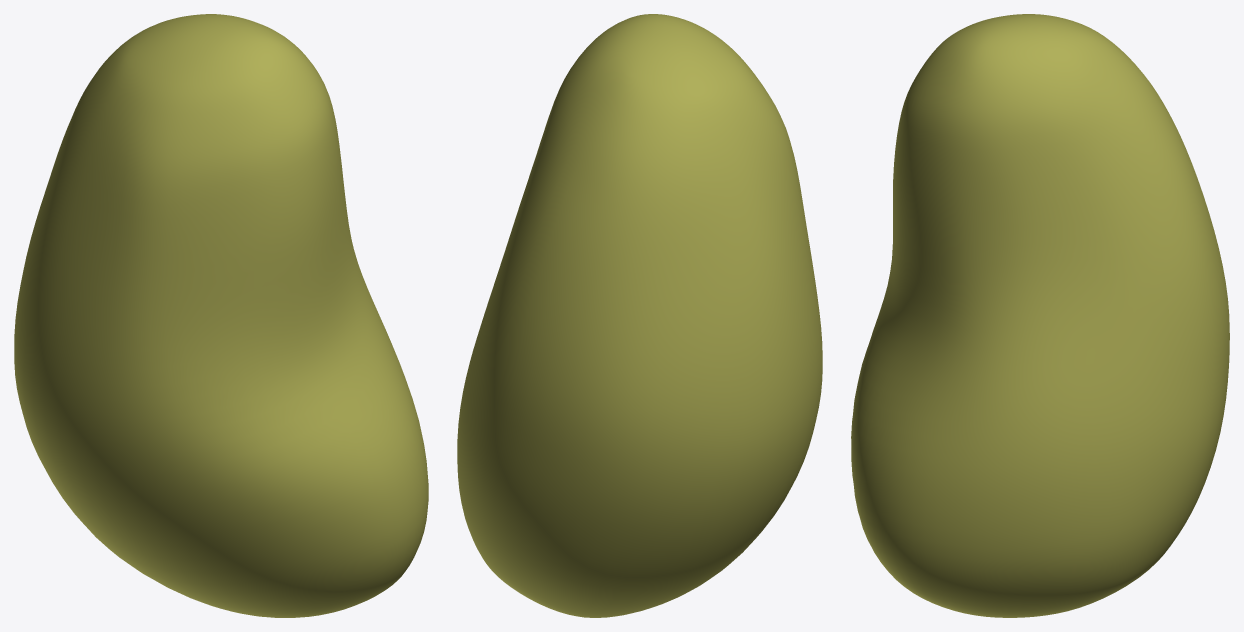
File: potato_lod1_1.fbx
The picture shows the model from 3 angles, left to right: view 1: azimuth 30°, elevation 25°; view 2: azimuth 150°, elevation 25°; view 3: azimuth 270°, elevation 25°; orthographic projection. The views are drawn at different scales.
Parts seen in each view (by area): view 1: polySurface4; view 2: polySurface4; view 3: polySurface4.
Part boxes in pixels (x1=…): polySurface4: x1=14, y1=14, x2=428, y2=617; polySurface4: x1=457, y1=14, x2=822, y2=617; polySurface4: x1=851, y1=14, x2=1229, y2=617.
Bounding box in the file's own units: 5.95 × 9.91 × 6.14.
